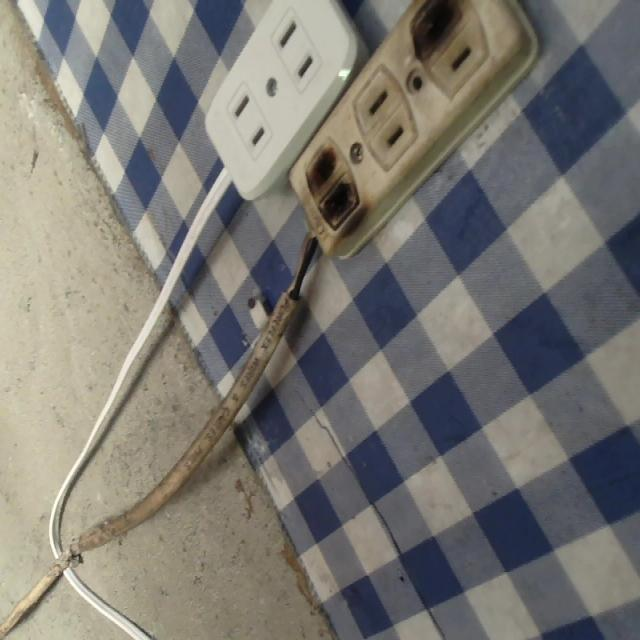-: (300, 138, 366, 230), (404, 0, 466, 73)
